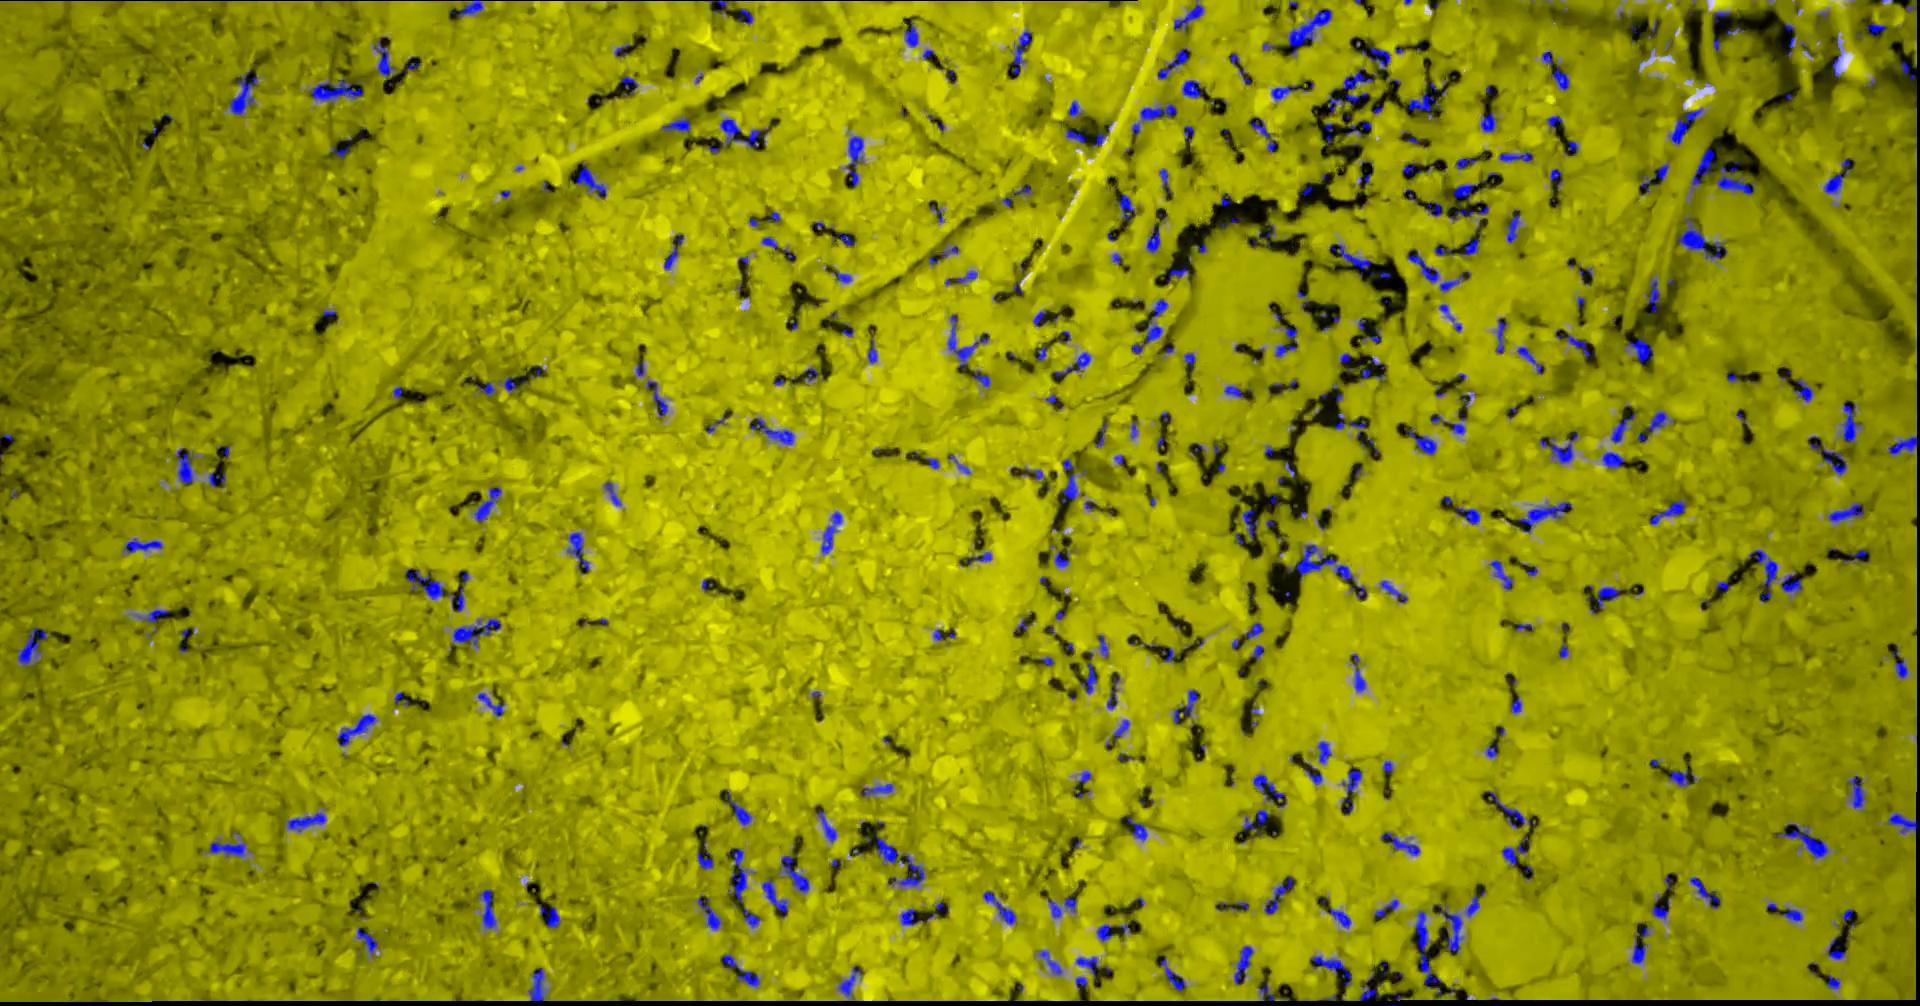ant: (1288, 544, 1357, 582), (877, 835, 926, 887), (408, 568, 465, 611), (1416, 909, 1443, 995), (949, 314, 990, 367), (1677, 216, 1728, 258), (1289, 8, 1333, 55), (1330, 69, 1378, 111), (1133, 298, 1170, 353), (1775, 823, 1830, 857), (1519, 500, 1573, 532), (1487, 790, 1531, 827), (1432, 903, 1464, 953), (1810, 434, 1848, 475), (1330, 243, 1373, 278), (1750, 549, 1779, 601), (721, 118, 770, 149), (311, 75, 364, 102), (230, 69, 259, 116), (455, 619, 502, 647), (338, 713, 377, 746), (1670, 107, 1704, 144), (1312, 955, 1352, 986), (1719, 161, 1756, 194), (752, 417, 795, 445), (18, 626, 48, 666), (1542, 433, 1580, 464), (1825, 158, 1857, 193), (577, 163, 608, 198), (1255, 774, 1288, 807), (984, 890, 1017, 923), (1557, 330, 1597, 357), (782, 855, 811, 892), (729, 847, 748, 902), (763, 876, 789, 917), (1266, 876, 1294, 913), (902, 902, 946, 925), (1159, 47, 1191, 79), (1408, 250, 1440, 282), (1650, 499, 1688, 525), (1691, 876, 1722, 908), (475, 486, 503, 521), (1382, 831, 1421, 855), (1175, 0, 1205, 30), (1161, 955, 1187, 989), (822, 511, 843, 553), (847, 135, 865, 185), (1057, 352, 1092, 377), (728, 790, 753, 826), (568, 532, 590, 572), (1641, 163, 1670, 193), (1639, 412, 1669, 442), (1063, 459, 1083, 502), (1343, 768, 1363, 814), (375, 39, 397, 76), (1693, 149, 1716, 185), (1252, 118, 1277, 151), (1175, 688, 1199, 723), (1503, 836, 1531, 865), (1611, 412, 1638, 442), (1843, 401, 1863, 441), (288, 810, 328, 831), (698, 895, 723, 929), (648, 380, 669, 417), (1077, 956, 1102, 987), (1015, 30, 1032, 74), (1432, 413, 1468, 434), (839, 965, 863, 997), (1450, 199, 1490, 218), (479, 889, 498, 929), (1236, 945, 1255, 984), (1517, 345, 1544, 373), (1408, 428, 1437, 453), (1490, 559, 1514, 589), (1360, 970, 1384, 1000), (177, 447, 196, 484), (1082, 652, 1098, 694), (1230, 52, 1252, 84), (665, 234, 684, 269), (1830, 502, 1865, 521), (1049, 895, 1078, 918), (1890, 812, 1920, 833), (1142, 103, 1178, 121), (1768, 903, 1804, 921), (1410, 91, 1441, 112), (818, 810, 838, 842), (1628, 338, 1655, 362), (479, 692, 505, 716), (1363, 46, 1390, 69), (1277, 326, 1299, 356), (210, 841, 248, 857), (1441, 271, 1472, 291), (1463, 221, 1481, 255), (1633, 926, 1650, 963), (1441, 304, 1463, 332), (1382, 580, 1410, 602), (537, 903, 561, 927), (1890, 434, 1920, 453), (1352, 653, 1368, 691), (1040, 950, 1063, 976), (358, 927, 378, 955), (530, 968, 546, 1002), (1117, 193, 1137, 222), (1597, 586, 1622, 608), (124, 539, 164, 553), (451, 0, 484, 17), (1849, 775, 1865, 808), (1272, 85, 1310, 99), (1244, 508, 1261, 540), (1328, 907, 1352, 929), (1244, 809, 1270, 829), (1454, 184, 1484, 201), (1670, 768, 1698, 786), (1128, 817, 1149, 840), (1167, 265, 1196, 282), (1647, 278, 1661, 312), (137, 608, 171, 622), (1552, 64, 1570, 90), (331, 136, 353, 158), (1507, 210, 1521, 243), (1304, 760, 1323, 784), (1109, 673, 1121, 709), (1653, 894, 1671, 920), (946, 271, 978, 285), (698, 842, 715, 869), (1796, 379, 1815, 401), (1782, 573, 1804, 592), (738, 967, 761, 986), (1183, 79, 1208, 97), (606, 481, 623, 506), (1457, 507, 1481, 525), (1375, 899, 1399, 917), (1347, 119, 1373, 136), (1034, 310, 1059, 326), (1829, 937, 1848, 959), (663, 117, 692, 131), (1497, 318, 1509, 353), (1350, 417, 1368, 439), (1603, 451, 1627, 467), (905, 19, 919, 47), (1161, 168, 1175, 196), (863, 782, 894, 795), (1067, 127, 1090, 144), (1260, 224, 1276, 246), (935, 245, 961, 259), (621, 75, 639, 95), (1115, 719, 1131, 741), (745, 906, 762, 927), (711, 0, 737, 14), (1148, 225, 1161, 253), (1096, 420, 1109, 447), (1482, 111, 1498, 131), (1501, 151, 1534, 161), (968, 551, 993, 564), (1319, 741, 1333, 763), (1098, 923, 1116, 941), (1260, 983, 1277, 1001), (1578, 264, 1594, 285), (1867, 22, 1888, 36), (1467, 895, 1481, 917), (974, 370, 992, 386), (1217, 901, 1250, 909), (1902, 60, 1917, 79), (1552, 168, 1564, 191), (1845, 550, 1870, 561), (1363, 328, 1383, 342), (210, 471, 227, 486), (1246, 622, 1263, 638), (477, 382, 497, 396), (1023, 467, 1046, 479), (723, 953, 739, 968), (1426, 201, 1444, 215), (500, 377, 518, 391), (1079, 770, 1093, 788), (1225, 385, 1244, 398), (1100, 634, 1110, 657), (395, 691, 410, 706), (1548, 116, 1564, 130), (1057, 550, 1070, 567), (1825, 974, 1841, 988), (1185, 352, 1197, 370), (1896, 661, 1909, 678), (1457, 158, 1478, 168), (834, 271, 853, 282), (869, 339, 877, 363), (740, 8, 754, 23), (1093, 131, 1107, 146), (1564, 140, 1578, 155), (1251, 645, 1265, 661), (841, 232, 856, 245), (805, 367, 820, 380), (1716, 11, 1732, 23), (616, 44, 632, 56), (1015, 185, 1032, 196), (1436, 246, 1457, 255), (1037, 345, 1050, 359), (1163, 647, 1176, 661), (1077, 976, 1090, 989), (763, 236, 778, 248), (1070, 100, 1081, 117), (1185, 124, 1195, 141), (1512, 696, 1523, 713), (1357, 584, 1368, 600), (1404, 163, 1417, 174), (1487, 746, 1498, 757)
